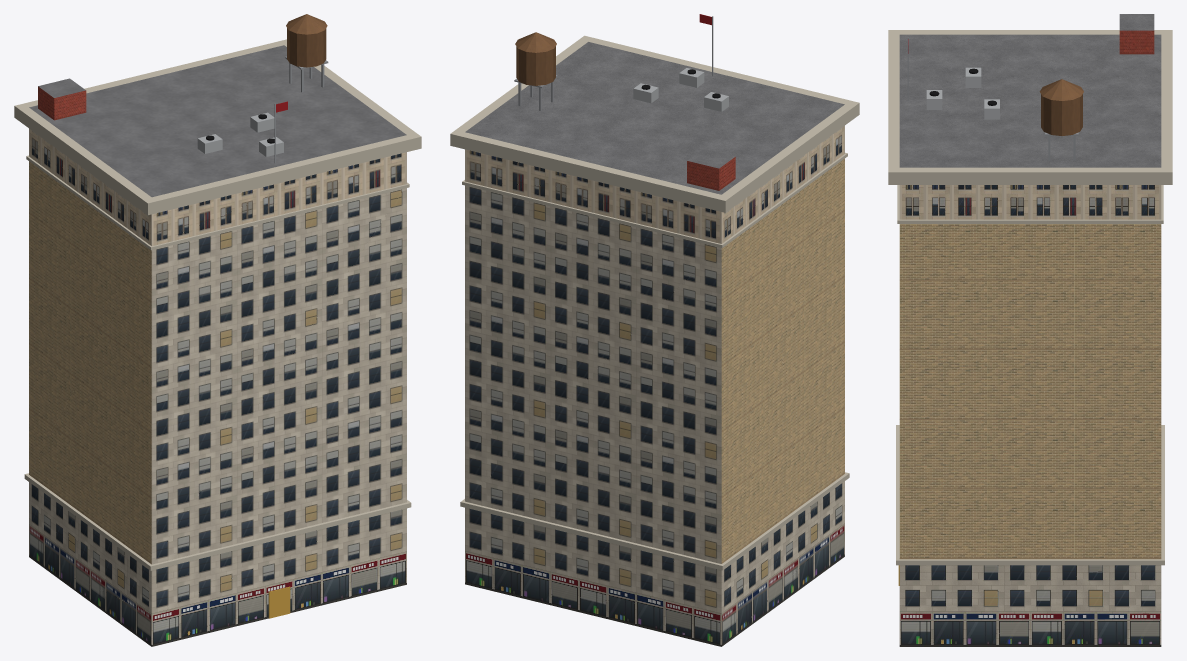
Rendered from 035_early_sky_cornice.glb.
3 views of the same model, side by side, from view 1: azimuth 30°, elevation 25°; view 2: azimuth 150°, elevation 25°; view 3: azimuth 270°, elevation 25° (orthographic). The views are drawn at different scales.
Visible parts, largest first — view 1: 035_early_sky_cornice; view 2: 035_early_sky_cornice; view 3: 035_early_sky_cornice.
Part boxes in pixels (bbox=[...]): 035_early_sky_cornice: bbox=[14, 14, 421, 646]; 035_early_sky_cornice: bbox=[450, 14, 859, 646]; 035_early_sky_cornice: bbox=[888, 14, 1172, 646].
Bounding box in the file's own units: 38.6 × 70.2 × 32.6.
13 materials, 7 textured.
